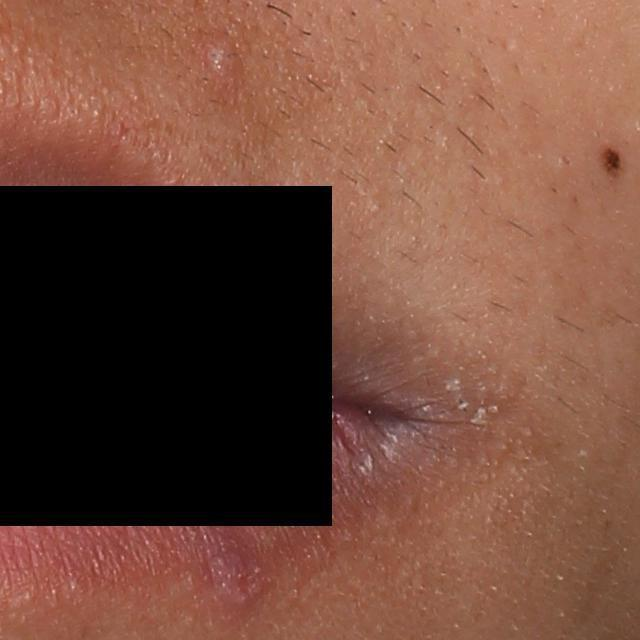nevus: (594, 140, 622, 179)
papule: (211, 568, 269, 609), (204, 35, 240, 81)
